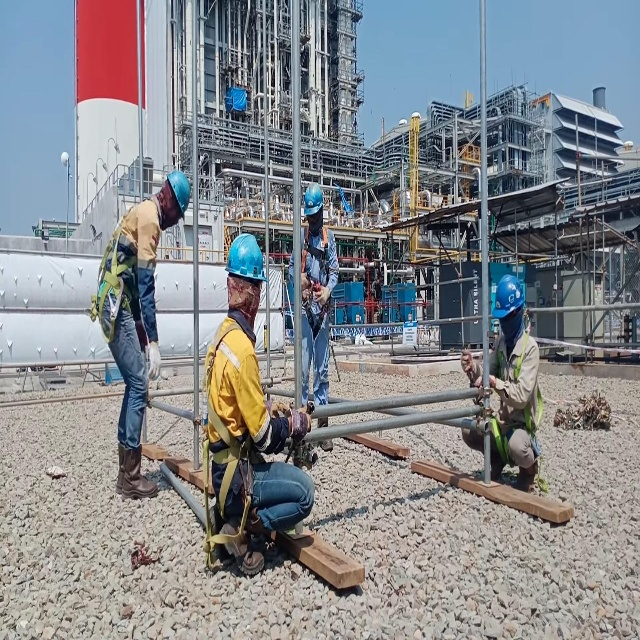Arnes_seguridad: (196, 316, 258, 567), (485, 328, 544, 466), (88, 199, 142, 343), (295, 214, 335, 339)
